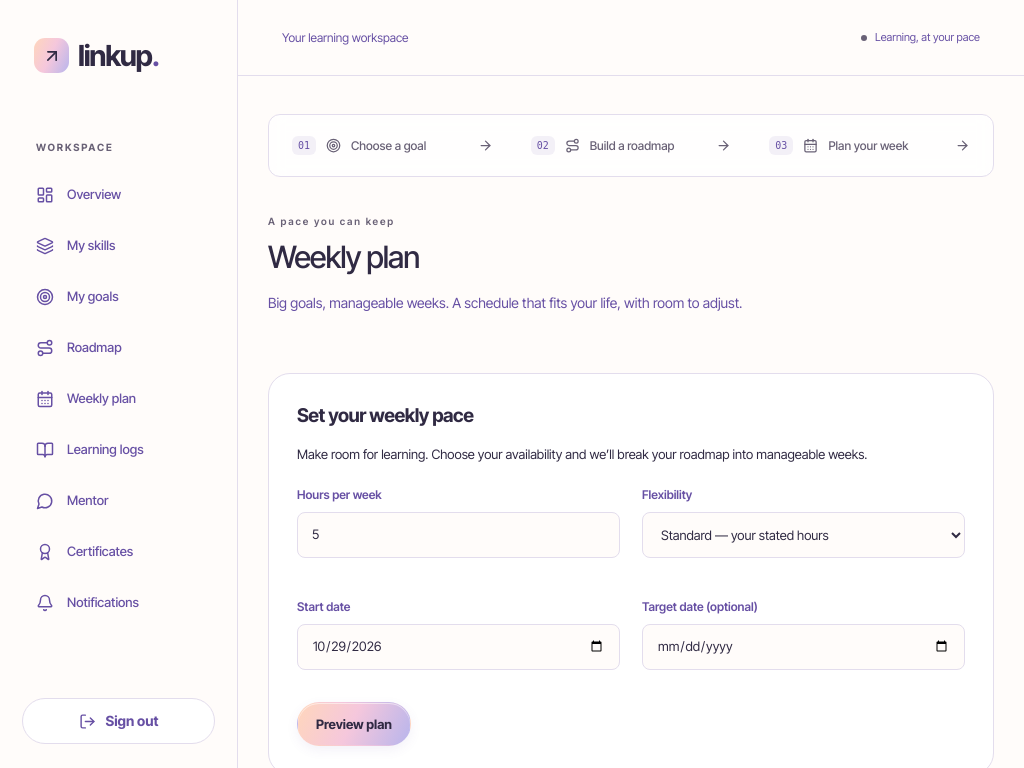
it: Weekly plan › shows what is scheduled before a plan is confirmed
The width and height of the screenshot is (1024, 768).
Click the button "Preview plan". click: {"x": 354, "y": 724}
box: [297, 702, 411, 746]
(page scrolled)
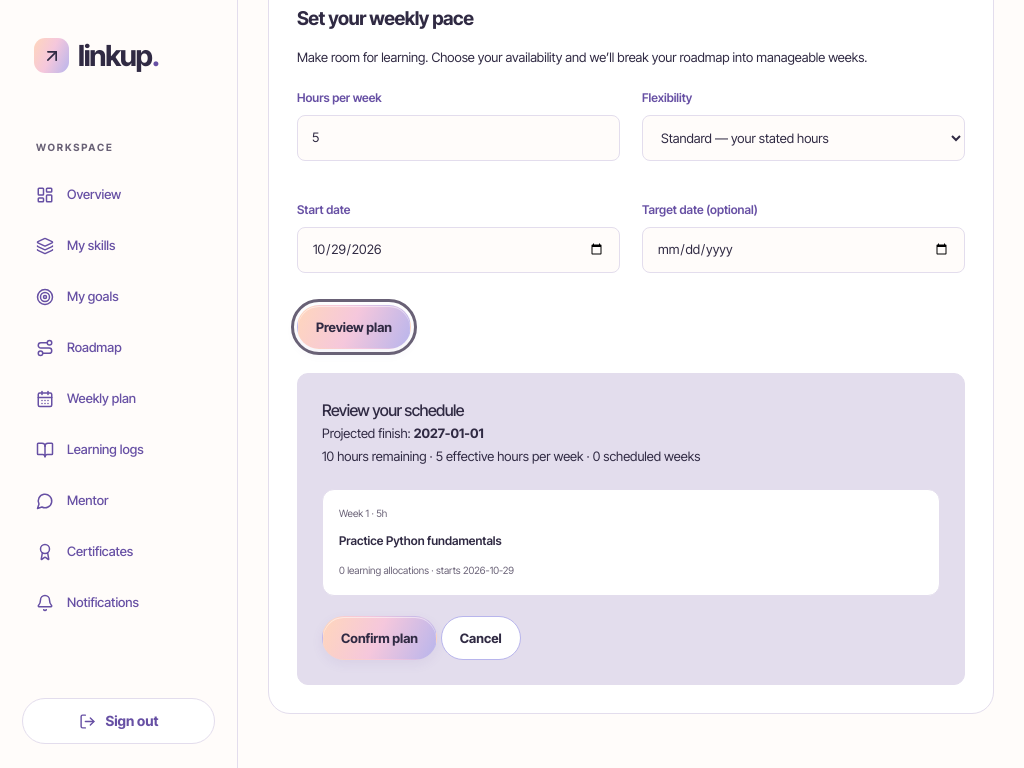
Expected: the text "Practice Python fundamentals" is shown, [339, 533, 502, 548]
